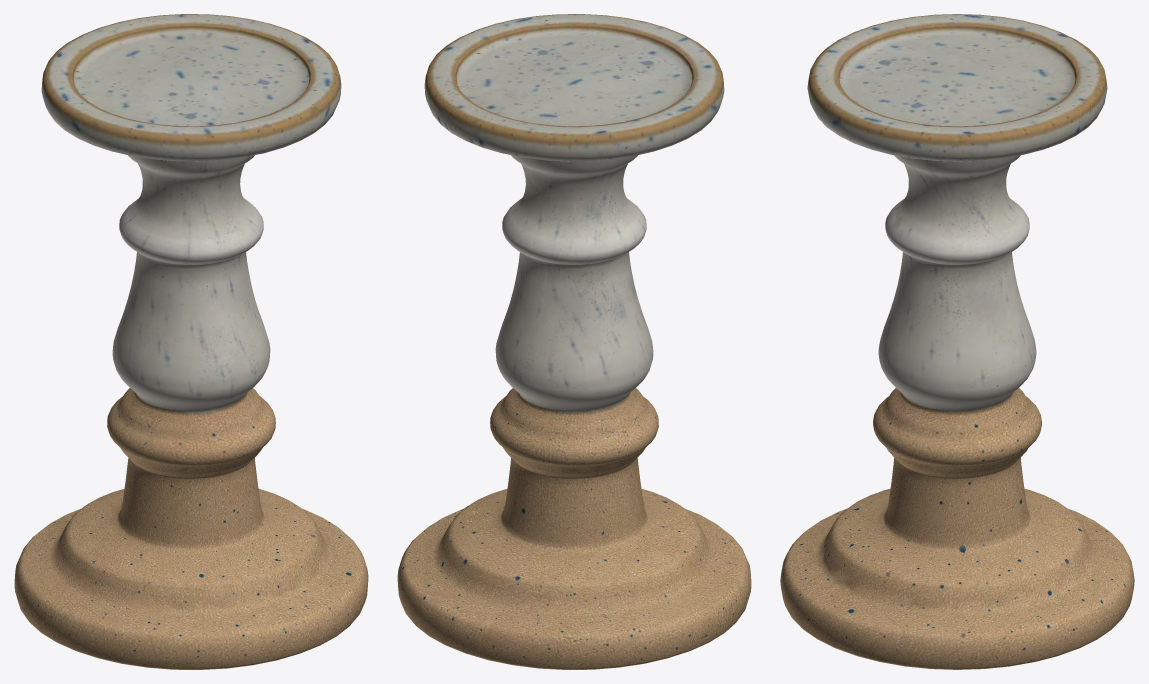
File: B075HXHKTZ.glb
3 renders of one model, left to right at view 1: azimuth 30°, elevation 25°; view 2: azimuth 150°, elevation 25°; view 3: azimuth 270°, elevation 25°, orthographic.
Parts seen in each view (by area): view 1: RootNode; view 2: RootNode; view 3: RootNode.
Part boxes in pixels (x1,y1,x2,y2): RootNode: (14,14,368,669); RootNode: (397,14,751,669); RootNode: (780,14,1134,669).
Size of the model in its own units: 0.1231 by 0.2016 by 0.1231.
1 material, 1 textured.
